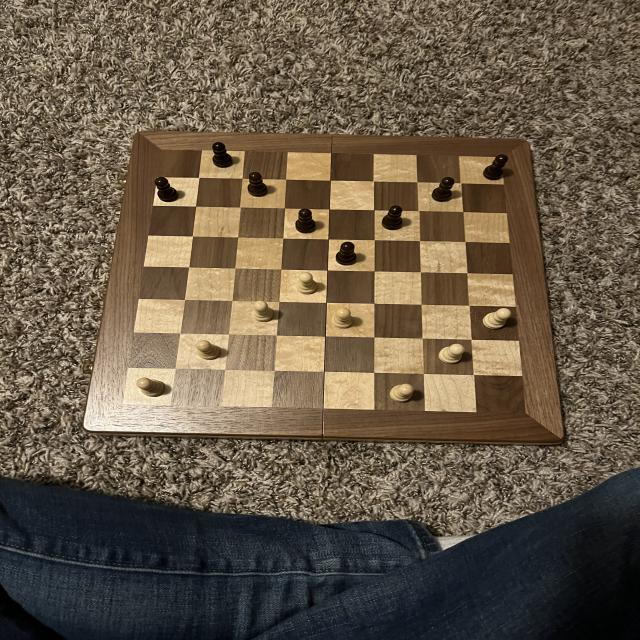black-knight: (480, 152, 510, 182), (377, 204, 408, 231), (208, 140, 236, 169), (292, 208, 321, 236), (153, 175, 181, 203), (332, 240, 361, 267), (245, 170, 271, 199), (430, 175, 456, 204)
white-knight: (292, 270, 320, 298), (436, 341, 466, 365), (482, 306, 512, 330), (387, 382, 419, 404), (135, 376, 166, 398), (250, 298, 275, 324), (329, 306, 356, 330), (194, 339, 222, 361)
